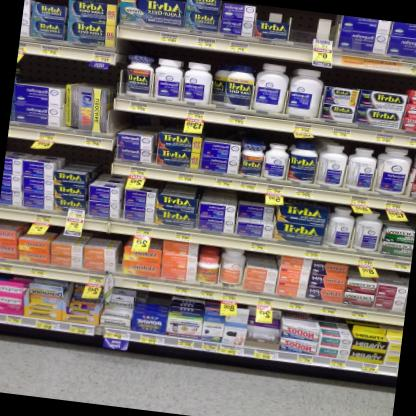empty_space: (285, 9, 340, 48)
